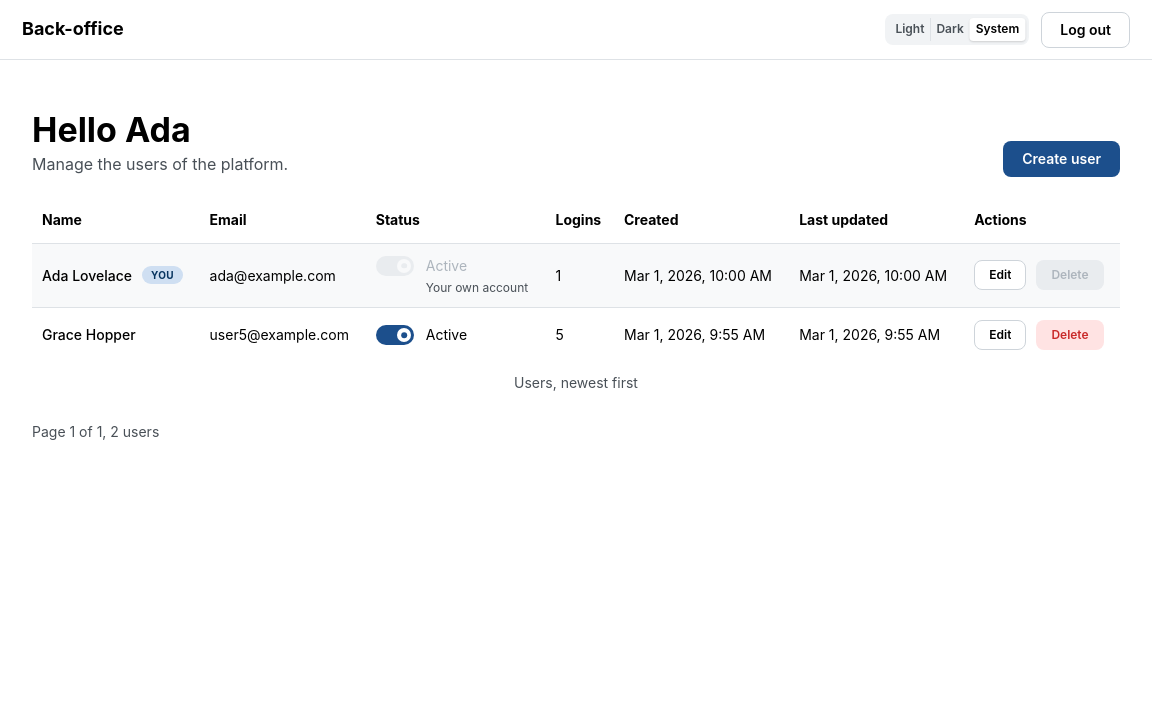
Scenario: dashboard: stale data after concurrent changes › DASH-62 refetches the list when a change fails because someone else changed the data
Check: the table is shown, box [32, 197, 1120, 394]
Click the button with aria-label "Delete Grace Hopper" at (1070, 335), box [1036, 320, 1104, 350]
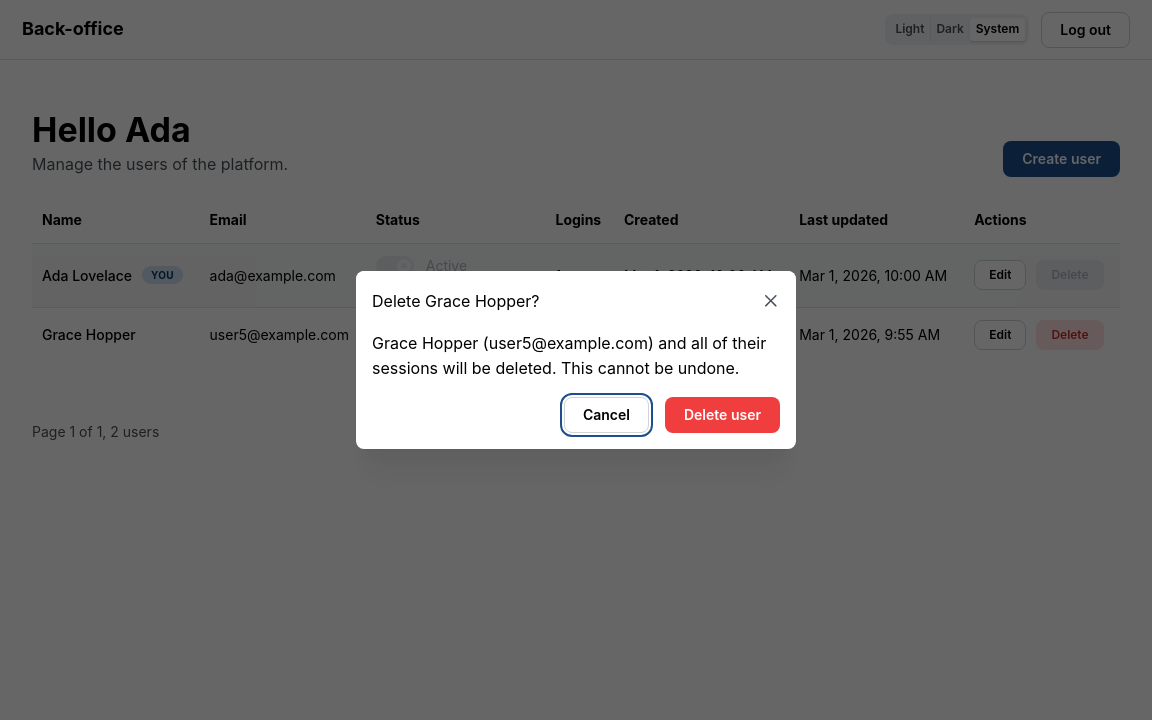
Click the button "Delete user" at (722, 415), box [665, 397, 780, 433]
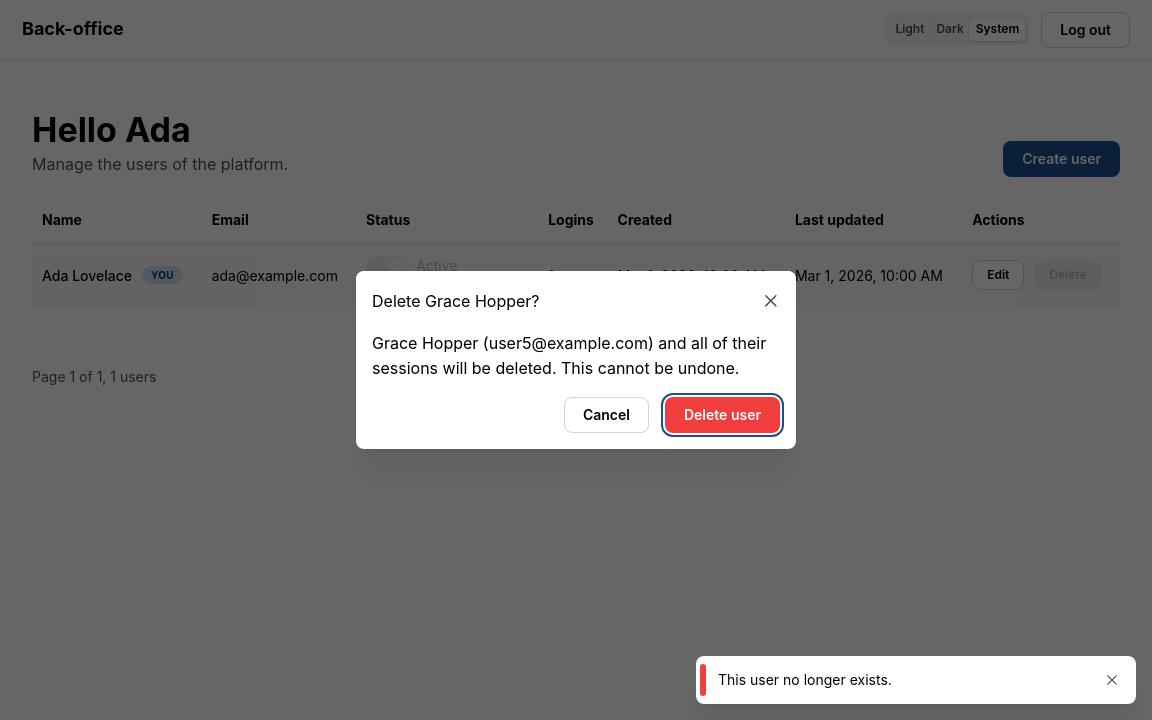
Check: the text "This user no longer exists." is shown, box [718, 671, 892, 688]
